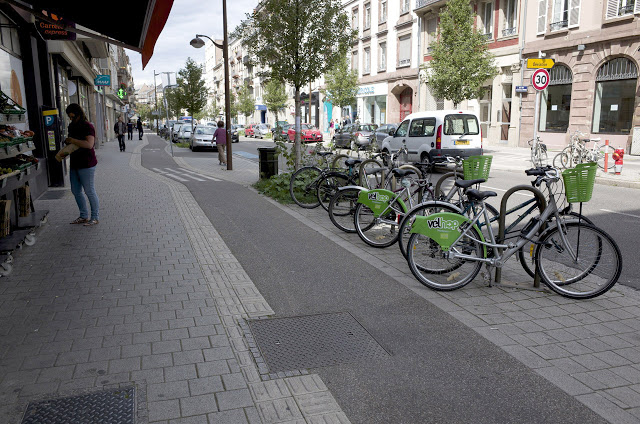bike: (407, 158, 631, 309)
